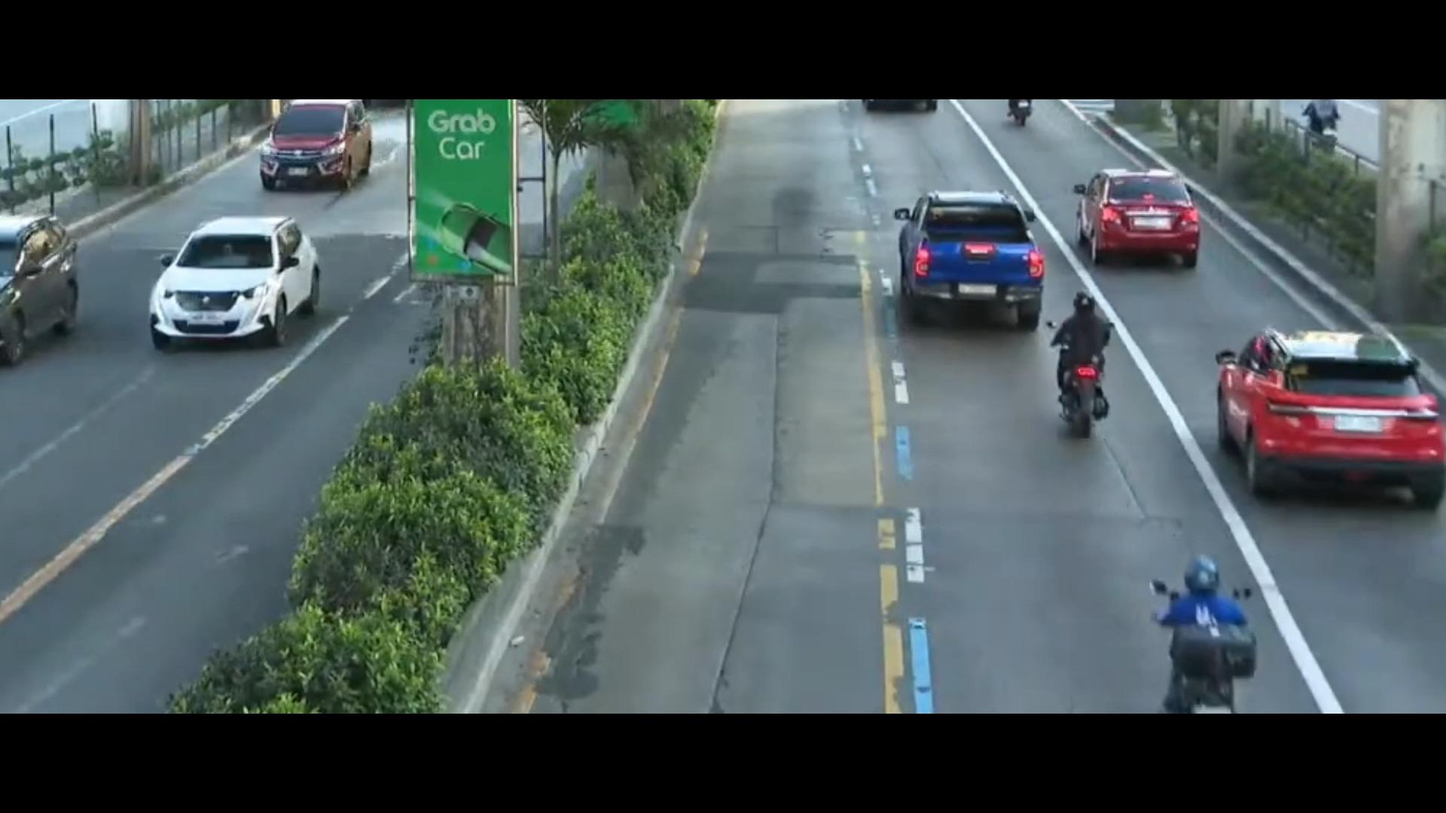Motorcycle: (1140, 555, 1283, 721), (1027, 287, 1135, 466)
Pickup: (889, 181, 1045, 346)
SUV: (1198, 307, 1435, 519), (131, 214, 334, 376), (254, 93, 385, 212), (0, 204, 93, 360)
Sedan: (1064, 159, 1223, 284)
